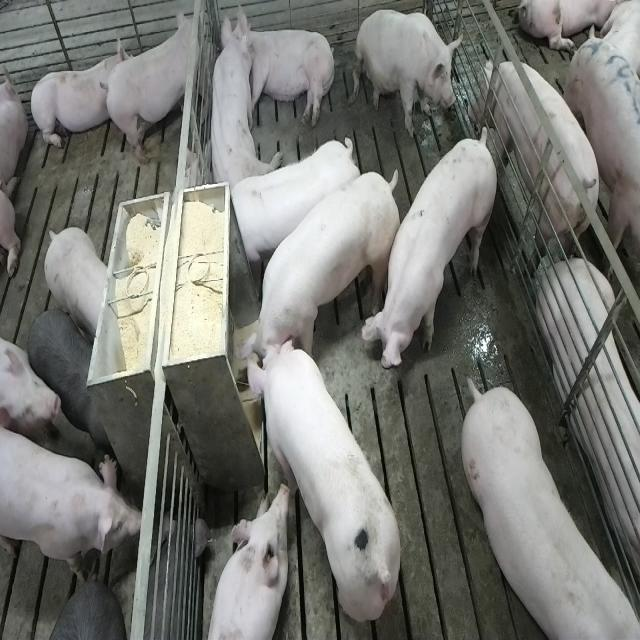Feeding: (240, 333, 404, 625), (235, 166, 403, 382)
Lateral_lying: (246, 19, 338, 129)
Sitting: (354, 8, 462, 138), (205, 11, 269, 195)
Standing: (464, 382, 640, 640), (366, 123, 501, 374), (478, 53, 612, 270), (2, 415, 142, 583), (228, 132, 362, 276), (100, 6, 202, 168), (29, 304, 110, 454), (44, 227, 110, 341), (41, 571, 125, 637)
Sternal_lying: (540, 262, 640, 611), (202, 482, 290, 640), (28, 38, 124, 156)
